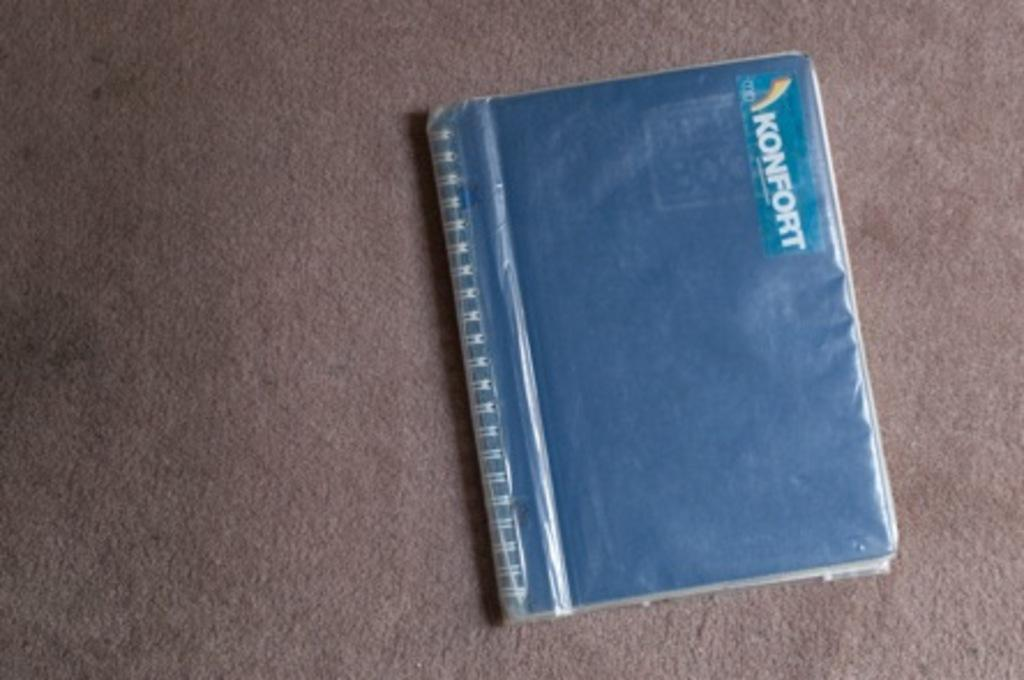book: (461, 62, 920, 609)
